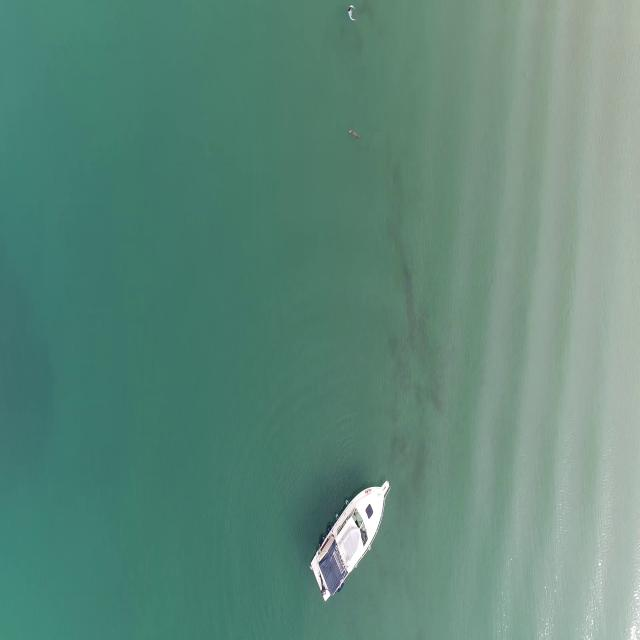boat: (312, 475, 391, 607)
person: (347, 2, 357, 27)
wood: (348, 126, 360, 140)
